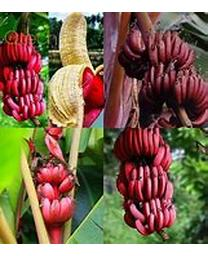banana: (119, 27, 207, 124), (114, 128, 177, 237), (51, 14, 103, 123), (0, 32, 47, 118), (33, 162, 79, 224)
